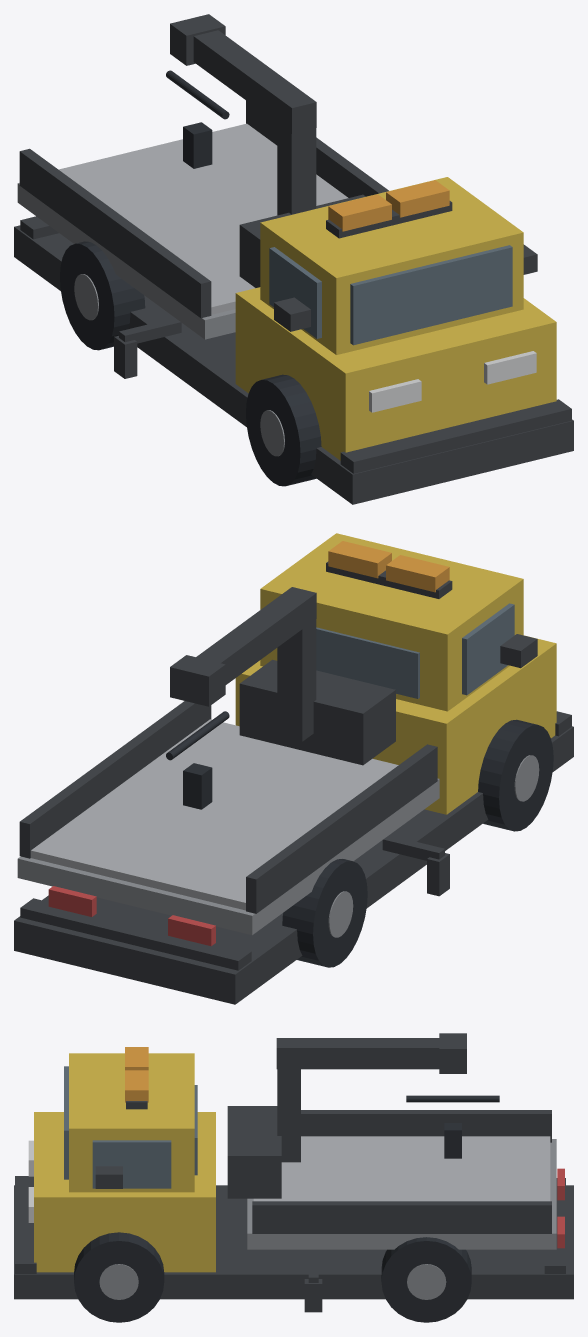
Rendered from tow_truck_simple.glb.
3 views of the same model, one above another, from view 1: azimuth 30°, elevation 25°; view 2: azimuth 150°, elevation 25°; view 3: azimuth 270°, elevation 25° (orthographic). The views are drawn at different scales.
Parts seen in each view (by area): view 1: cab_lower, flatbed_deck, cab_upper, chassis, windshield, rail_-1, wheel_FL, boom_arm, front_bumper, wheel_RL, flatbed_base, boom_vertical (+16 smaller); view 2: flatbed_deck, chassis, cab_upper, cab_lower, winch_box, flatbed_base, rail_-1, rail_1, wheel_FL, wheel_RL, rear_bumper, boom_arm (+16 smaller); view 3: chassis, flatbed_deck, cab_lower, cab_upper, rail_1, rail_-1, wheel_FR, wheel_RR, flatbed_base, winch_box, boom_arm, side_window_R (+13 smaller).
Boxes of the visible parts, x1,y1,x2,y2 form: cab_lower: (235,287,556,460); flatbed_deck: (58,123,348,314); cab_upper: (260,177,523,354); chassis: (14,225,573,504); windshield: (350,245,512,345); rail_-1: (19,148,211,318); wheel_FL: (246,374,321,486); boom_arm: (193,30,316,133); front_bumper: (340,399,571,473); wheel_RL: (60,241,145,350); flatbed_base: (17,183,235,339); boom_vertical: (277,101,316,215); flatbed_deck: (31,719,398,910); chassis: (14,726,573,1004); cab_upper: (260,533,523,711); cab_lower: (235,635,556,814); winch_box: (239,659,395,765); flatbed_base: (17,778,439,935); rail_-1: (246,744,437,913); rail_1: (19,701,211,858); wheel_FL: (478,719,553,831); wheel_RL: (282,859,367,967); rear_bumper: (20,898,251,970); boom_arm: (196,587,316,684); chassis: (14,1185,573,1299); flatbed_deck: (253,1136,550,1201); cab_lower: (34,1112,215,1272); cab_upper: (69,1053,194,1192); rail_1: (252,1201,551,1233); rail_-1: (301,1110,551,1142); wheel_FR: (74,1232,164,1322); wheel_RR: (381,1237,471,1322); flatbed_base: (247,1139,556,1249); winch_box: (227,1106,281,1198); boom_arm: (276,1038,439,1069); side_window_R: (92,1140,171,1188).
Bounding box in the file's own units: 3.16 × 2.59 × 5.7.
